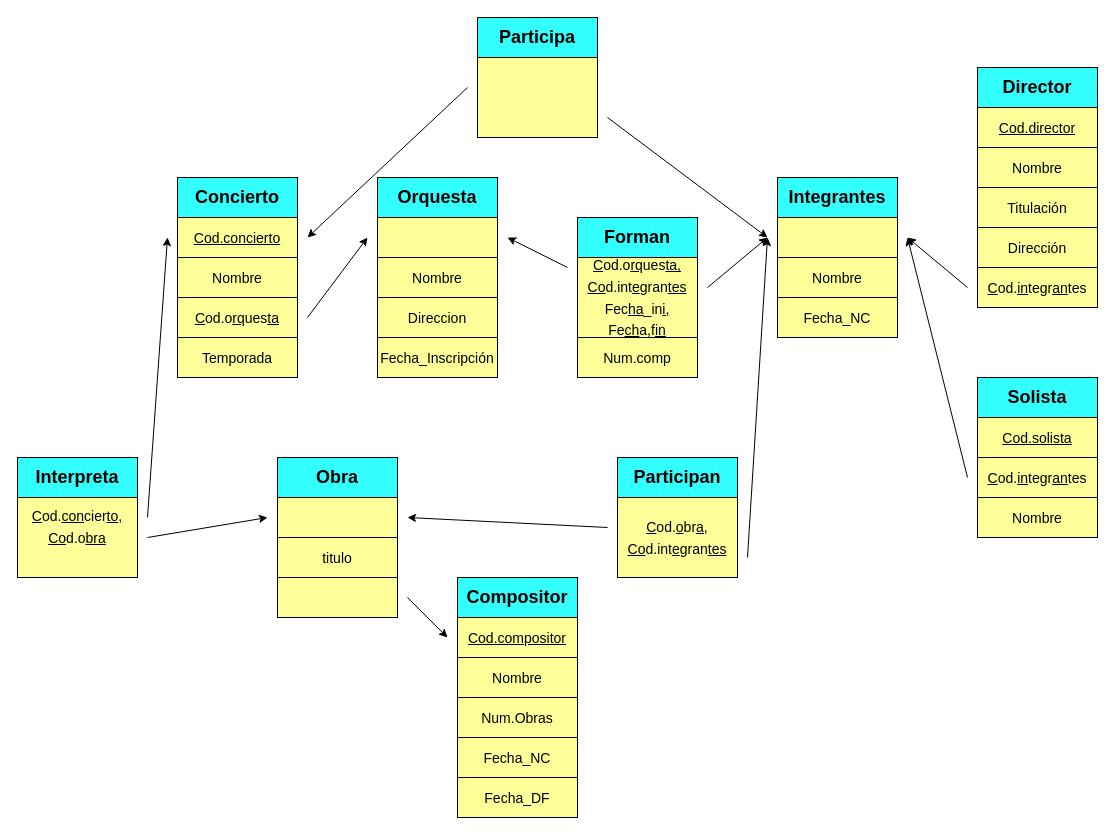
Some shapes in this 1115 by 835 pixel diagram are drawn without their labels. The shapes that lost their labels are listed below. From the top down, each one's centre as x and y in pixels, then its label:
(537,97): C od.c onc ie rto, Co d.int e gran tes
(437,237): Cod.orquesta
(837,237): Cod.integrantes
(337,517): Cod.obra
(337,597): C od .c omp osi to r
